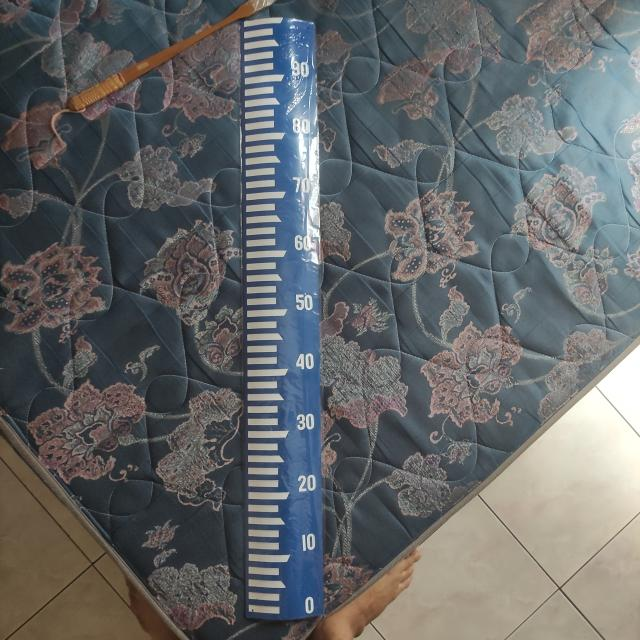water-meter: (231, 8, 336, 636)
